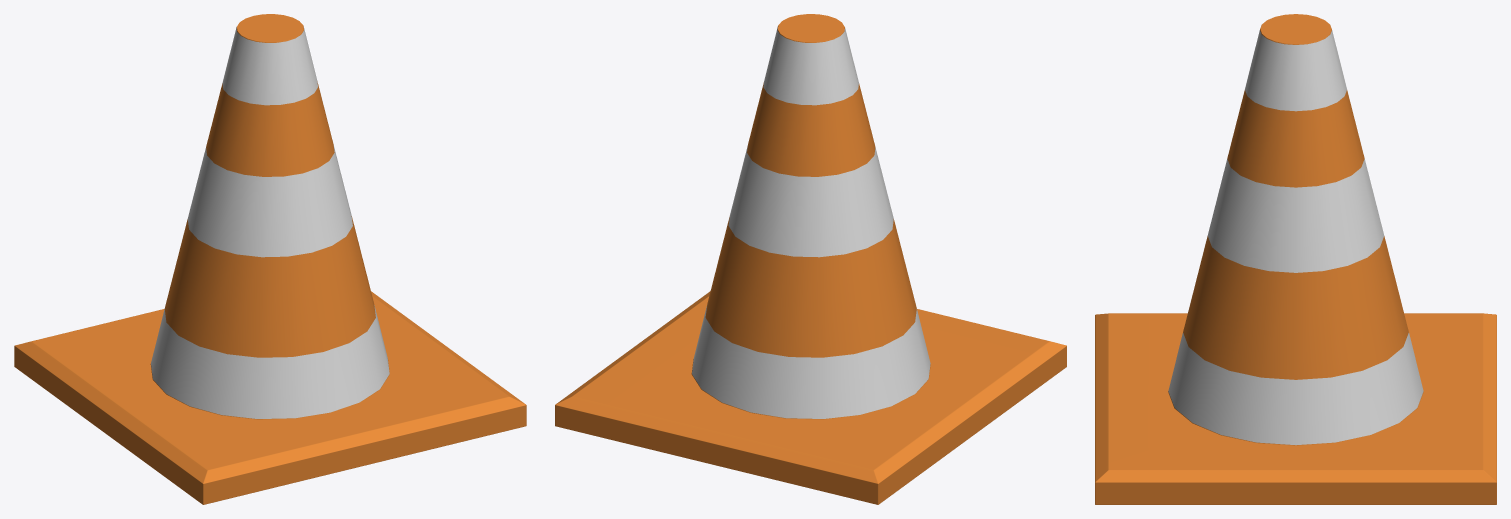
The model's file is ConeHat.fbx.
The picture shows the model from 3 angles, left to right: view 1: azimuth 30°, elevation 25°; view 2: azimuth 150°, elevation 25°; view 3: azimuth 270°, elevation 25°; orthographic projection. The views are drawn at different scales.
Visible parts, largest first — view 1: TrafficCone; view 2: TrafficCone; view 3: TrafficCone.
Part boxes in pixels (<box>): TrafficCone: <box>14,14,526,504</box>; TrafficCone: <box>555,14,1066,504</box>; TrafficCone: <box>1095,14,1496,504</box>.
Size of the model in its own units: 57.37 by 62.45 by 58.01.
